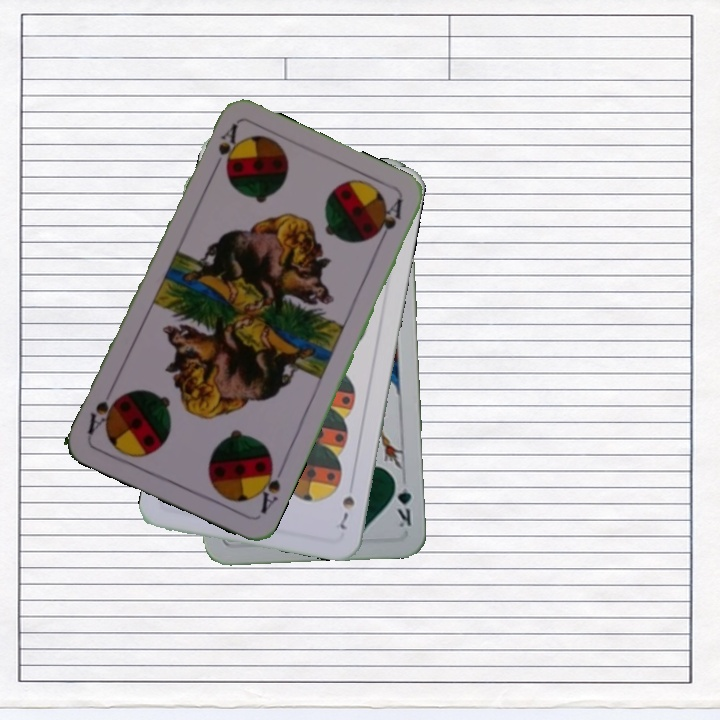GK: (390, 473, 414, 530)
S7: (335, 492, 357, 532)
SA: (251, 457, 287, 517), (208, 119, 240, 176)
